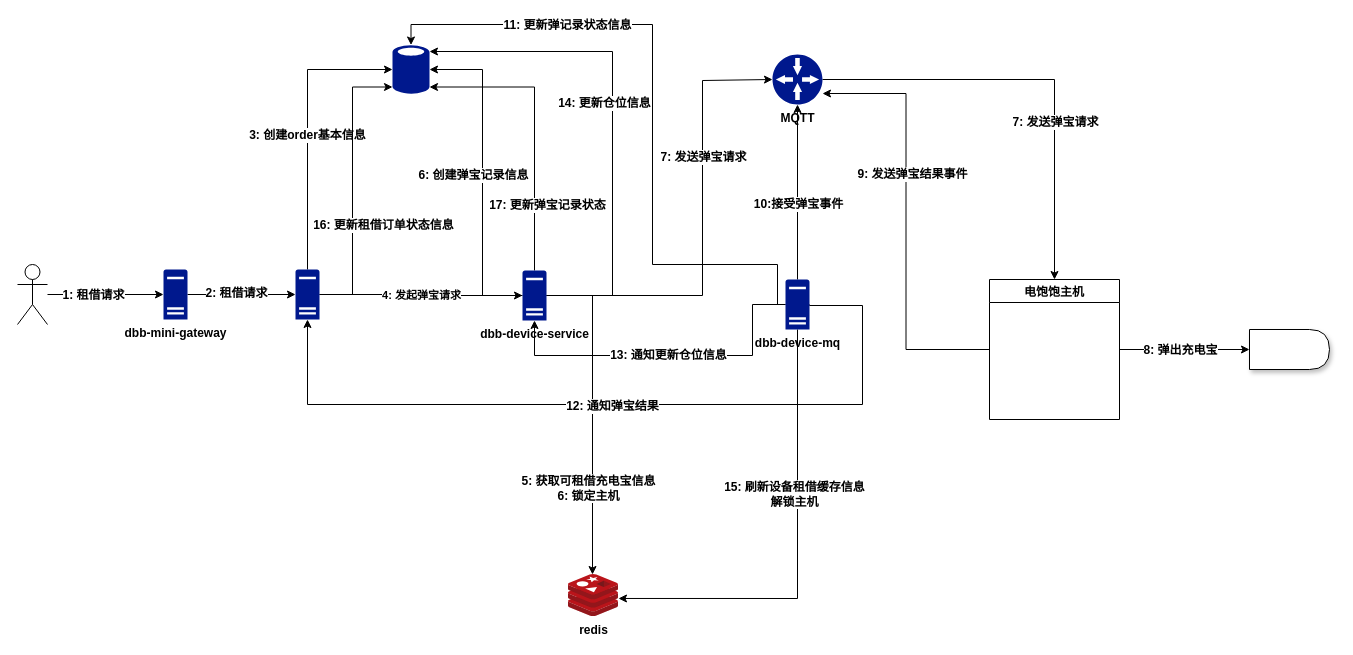
Image size: 1353x655. Some labels were removed from this diagram. Here are the shapes that lost their labels. From the top down, the centre of each, then its label:
the point at 410,69: mysql
the point at 32,294: 用户
the point at 307,294: dbb-order-service
